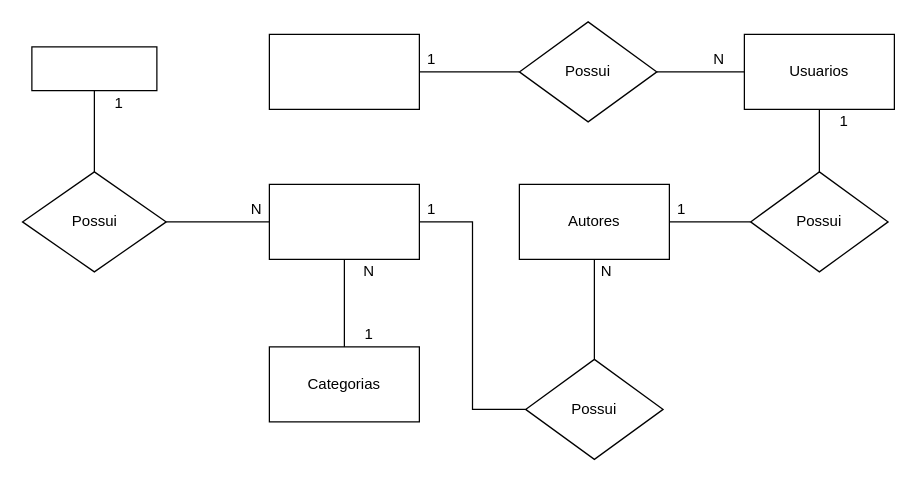
This 916x481 diagram has some shape labels left out. The shapes that lost their labels are listed below. From the top down, each one's box as (x1, y1, x2, y2) in pixels, then its label:
(31, 46, 157, 91): Instituicoes
(268, 33, 419, 109): Tipos usuarios
(268, 183, 419, 259): Livros
